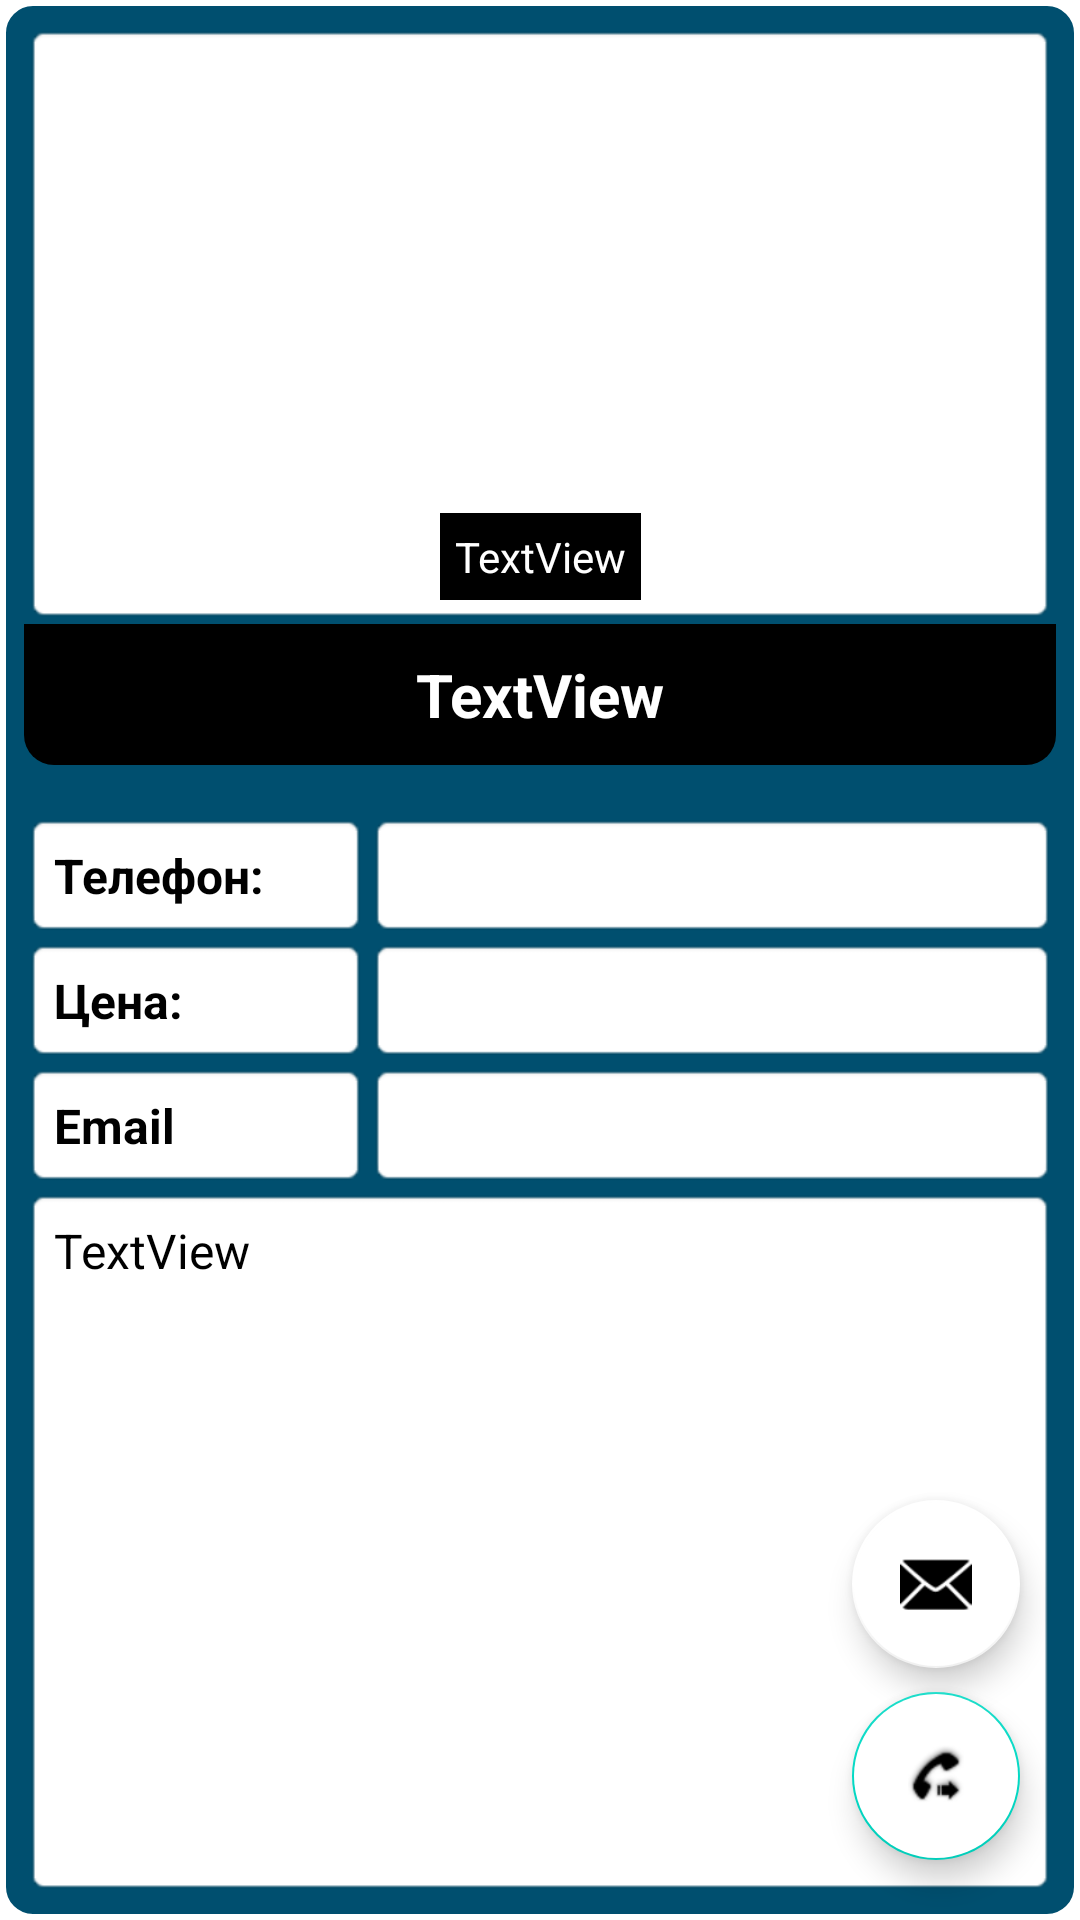

Named icons in this screenshot (1080w x 1920h) and their centers, (x,y):
email: (915,1590)
phone call forward: (936,1776)
